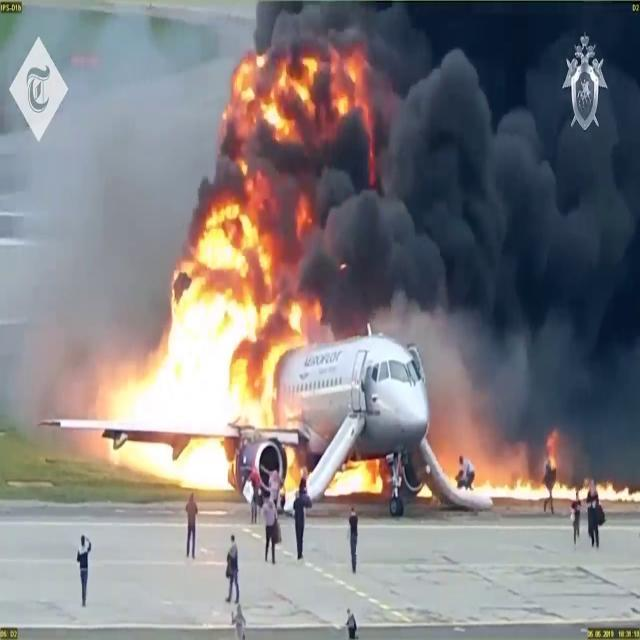Fire: (110, 190, 312, 487), (228, 44, 374, 134), (452, 437, 637, 505), (330, 452, 388, 502)
Smoke: (216, 3, 640, 359)
